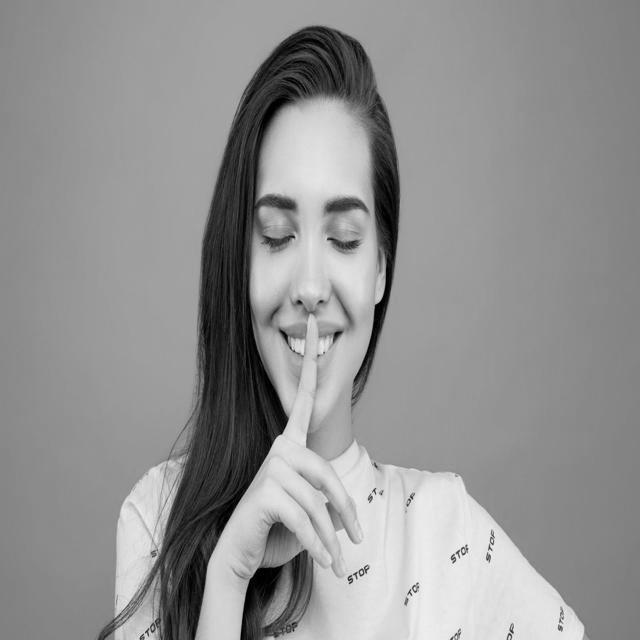Happiness: (245, 94, 382, 428)
